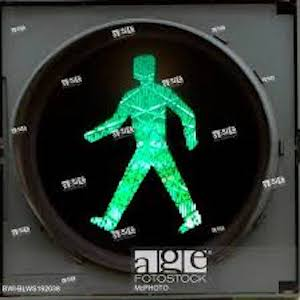green: (74, 51, 208, 234)
